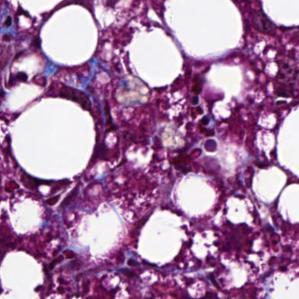inflammation: (189, 111, 222, 155), (0, 68, 33, 93)
